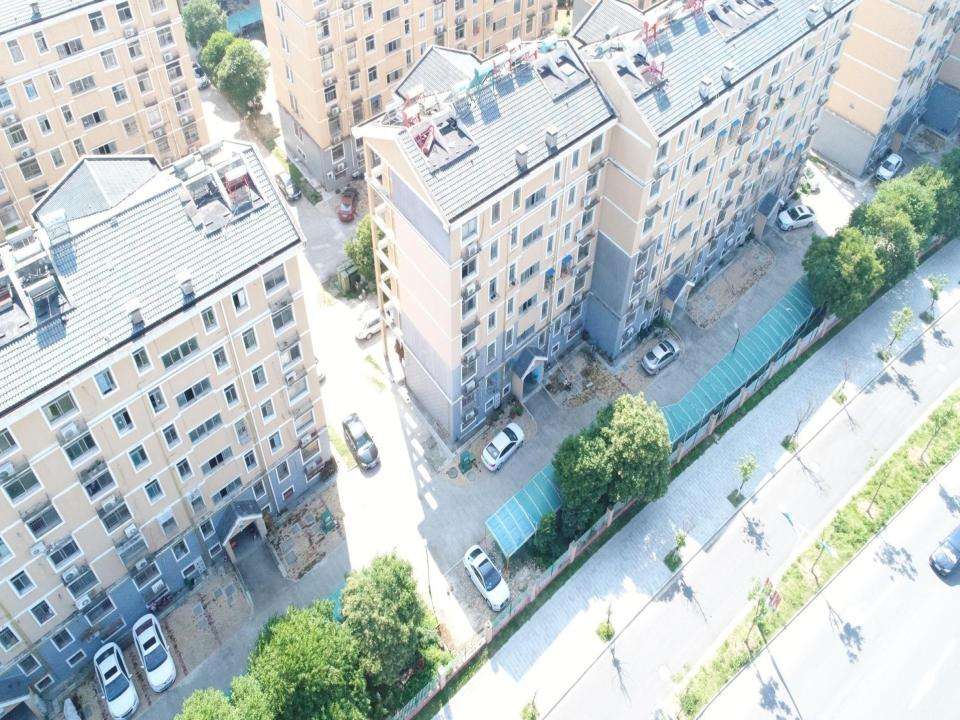car: (92, 638, 141, 719), (132, 607, 176, 697), (463, 538, 513, 611), (481, 424, 525, 474), (343, 415, 380, 472), (928, 527, 959, 580), (642, 338, 682, 378), (774, 205, 818, 234), (274, 166, 302, 205), (354, 306, 383, 341), (876, 152, 904, 186), (336, 182, 358, 224), (794, 161, 822, 193), (191, 60, 210, 92), (313, 352, 327, 384)
